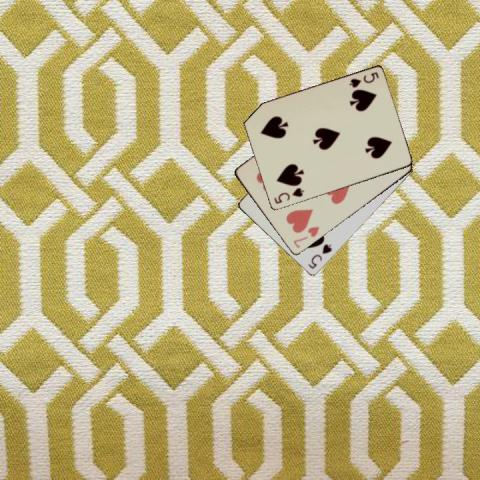5s: (306, 241, 334, 271), (271, 185, 305, 205), (346, 70, 380, 90)
7h: (290, 224, 321, 250)
